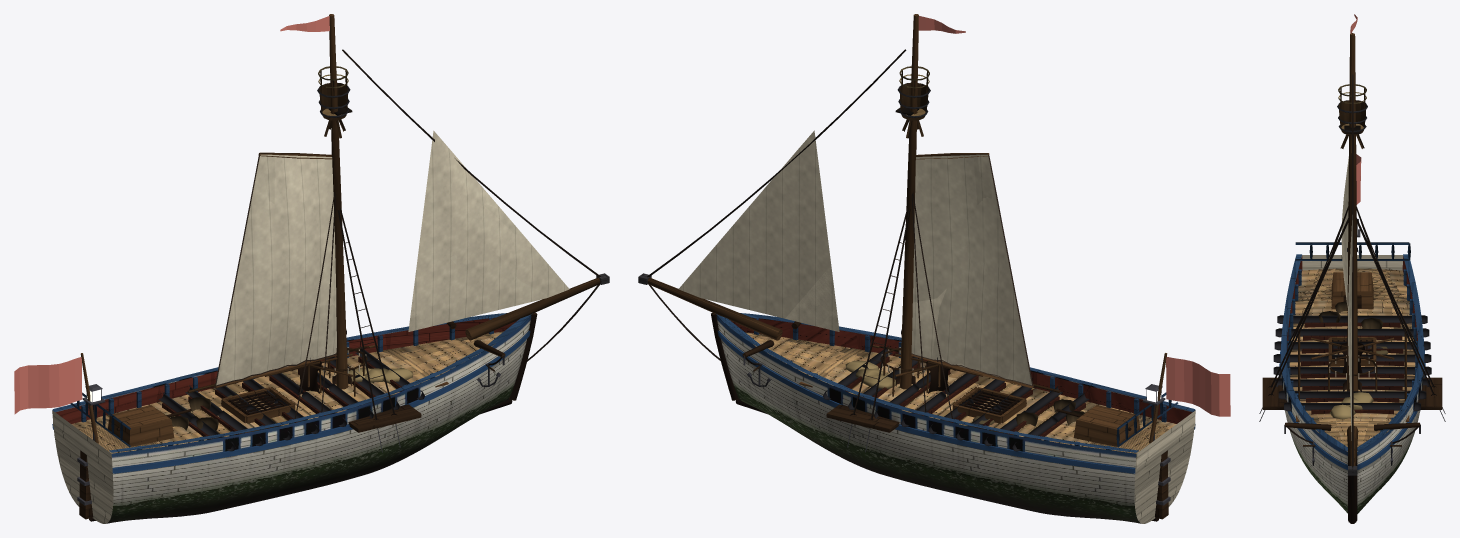
The model's file is yacht.glb.
3 views of the same model, side by side, from view 1: azimuth 30°, elevation 25°; view 2: azimuth 150°, elevation 25°; view 3: azimuth 270°, elevation 25° (orthographic). The views are drawn at different scales.
Parts seen in each view (by area): view 1: LOD0_Body, LOD0_Wood, LOD0_m0_AftSail, LOD0_Jib, LOD2_Wood, LOD2_Body, LOD1_Wood, LOD0_Flag, LOD1_Jib, LOD1_m0_AftSail, LOD1_Body, LOD2_m0_AftSail (+1 smaller); view 2: LOD0_Body, LOD0_Wood, LOD2_m0_AftSail, LOD2_Jib, LOD2_Wood, LOD2_Body, LOD1_Wood, LOD0_Flag, LOD1_Body, LOD1_m0_AftSail, LOD1_Jib, LOD0_m0_AftSail (+1 smaller); view 3: LOD0_Wood, LOD0_Body, LOD2_Body, LOD2_Wood, LOD1_Wood, LOD0_m0_AftSail, LOD1_Body, LOD0_Jib, LOD0_Flag.
Boxes of the visible parts, <box> form: LOD0_Body: <box>52,83,531,523</box>; LOD0_Wood: <box>52,14,609,523</box>; LOD0_m0_AftSail: <box>216,154,336,385</box>; LOD0_Jib: <box>408,131,546,331</box>; LOD2_Wood: <box>55,18,597,521</box>; LOD2_Body: <box>52,316,530,521</box>; LOD1_Wood: <box>53,14,599,523</box>; LOD0_Flag: <box>14,16,329,414</box>; LOD1_Jib: <box>409,133,569,331</box>; LOD1_m0_AftSail: <box>221,155,336,378</box>; LOD1_Body: <box>111,108,530,522</box>; LOD2_m0_AftSail: <box>219,154,336,371</box>; LOD0_Body: <box>716,83,1195,523</box>; LOD0_Wood: <box>638,14,1195,523</box>; LOD2_m0_AftSail: <box>913,154,1021,378</box>; LOD2_Jib: <box>678,130,838,330</box>; LOD2_Wood: <box>649,39,1192,521</box>; LOD2_Body: <box>717,316,1195,521</box>; LOD1_Wood: <box>648,14,1193,523</box>; LOD0_Flag: <box>918,16,1230,416</box>; LOD1_Body: <box>717,108,1139,522</box>; LOD1_m0_AftSail: <box>912,154,1028,382</box>; LOD1_Jib: <box>719,150,838,331</box>; LOD0_m0_AftSail: <box>911,154,1031,385</box>; LOD0_Wood: <box>1262,33,1442,523</box>; LOD0_Body: <box>1259,100,1445,513</box>; LOD2_Body: <box>1283,268,1422,513</box>; LOD2_Wood: <box>1280,35,1424,521</box>; LOD1_Wood: <box>1281,35,1424,522</box>; LOD0_m0_AftSail: <box>1341,159,1348,305</box>; LOD1_Body: <box>1280,124,1423,513</box>; LOD0_Jib: <box>1348,215,1352,390</box>; LOD0_Flag: <box>1350,14,1361,204</box>.
Bounding box in the file's own units: 19.7 × 14.6 × 5.7.
5 materials, 3 textured.
